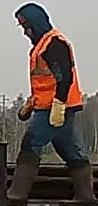gloves: (49, 97, 66, 127), (18, 96, 34, 121)
helmet: (14, 13, 28, 25)
vest: (26, 29, 84, 112)
